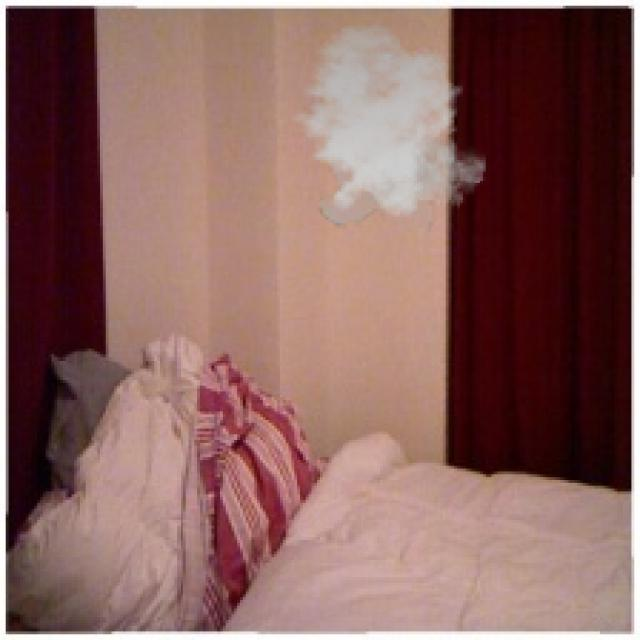smoke: (283, 23, 486, 231)
